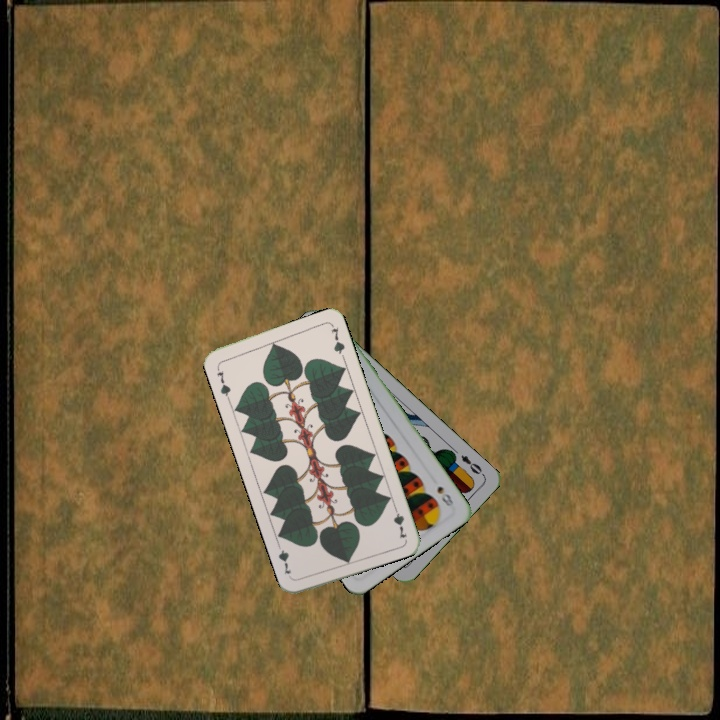EO: (457, 450, 487, 479)
G7: (389, 501, 410, 541), (212, 362, 233, 402)
S8: (433, 482, 458, 510)
